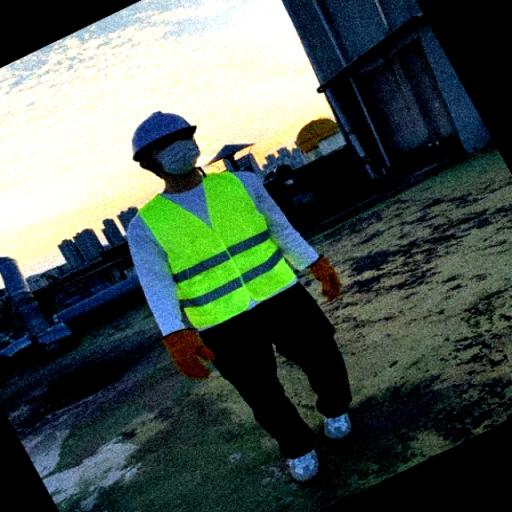Person: (101, 98, 377, 474)
gloves: (158, 327, 218, 383), (304, 250, 352, 306)
helmet: (130, 110, 196, 160)
vest: (137, 170, 300, 328)
